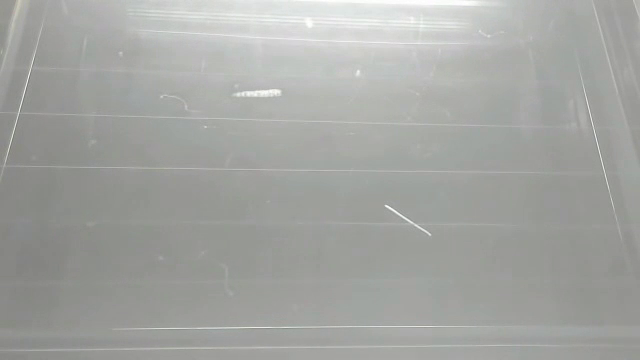alpha: (381, 200, 436, 240), (229, 87, 287, 102), (302, 13, 317, 31)
